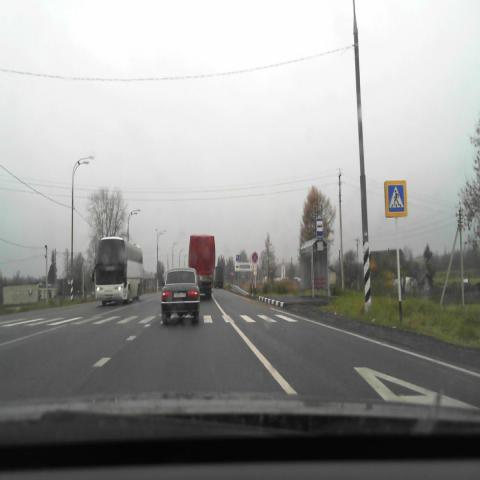5_19_1: (384, 180, 407, 217)
